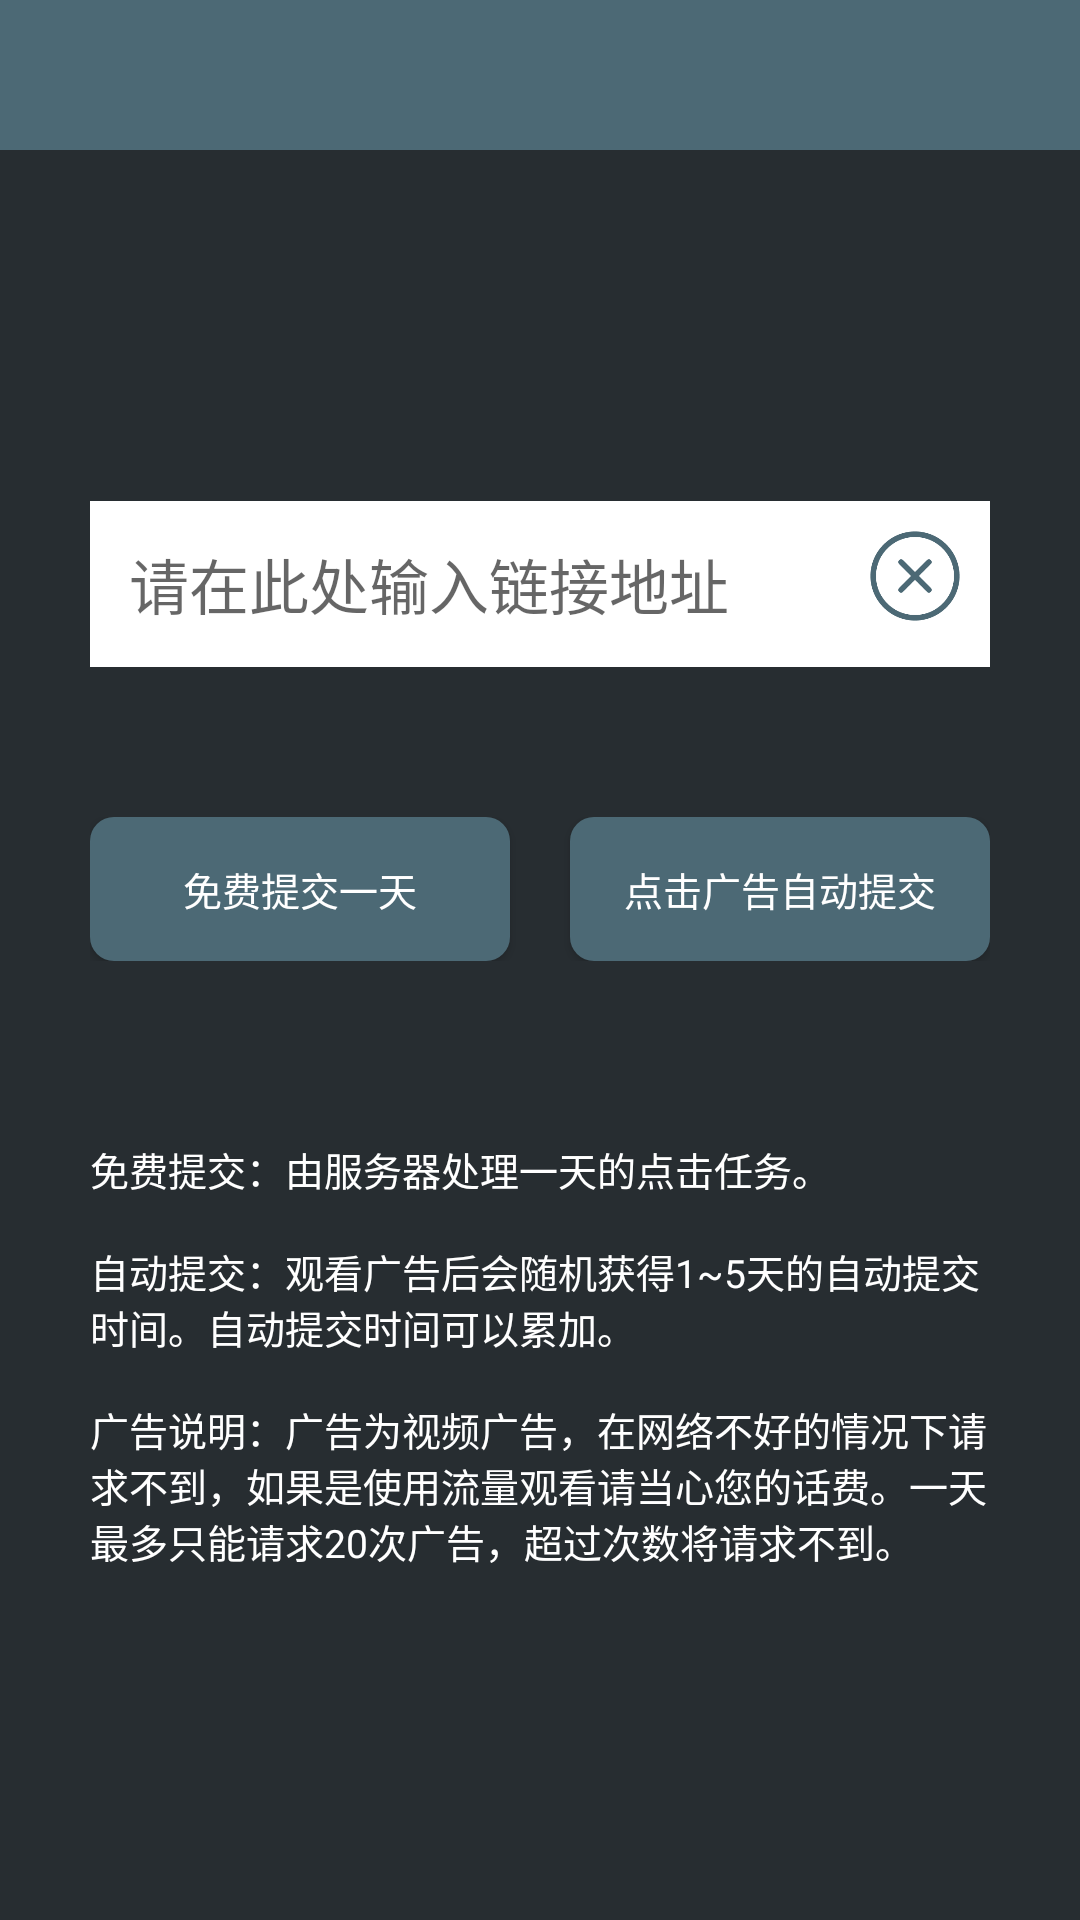

Screen size 1080px×1920px. Icon name, then its center in pixels as [x,y]:
clear: [915,576]
